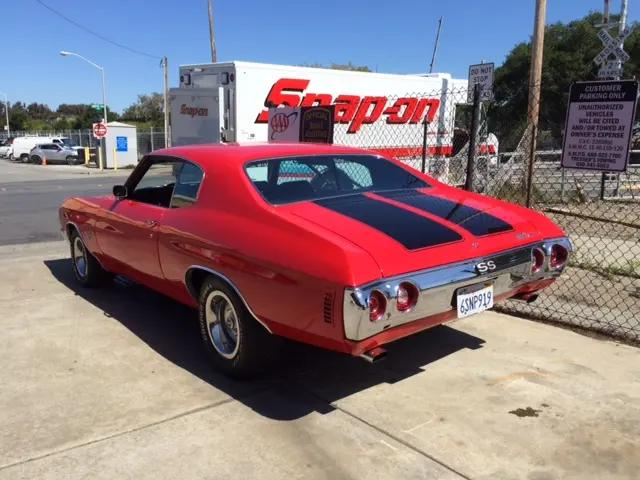chevelle-1972: (59, 141, 572, 377)
